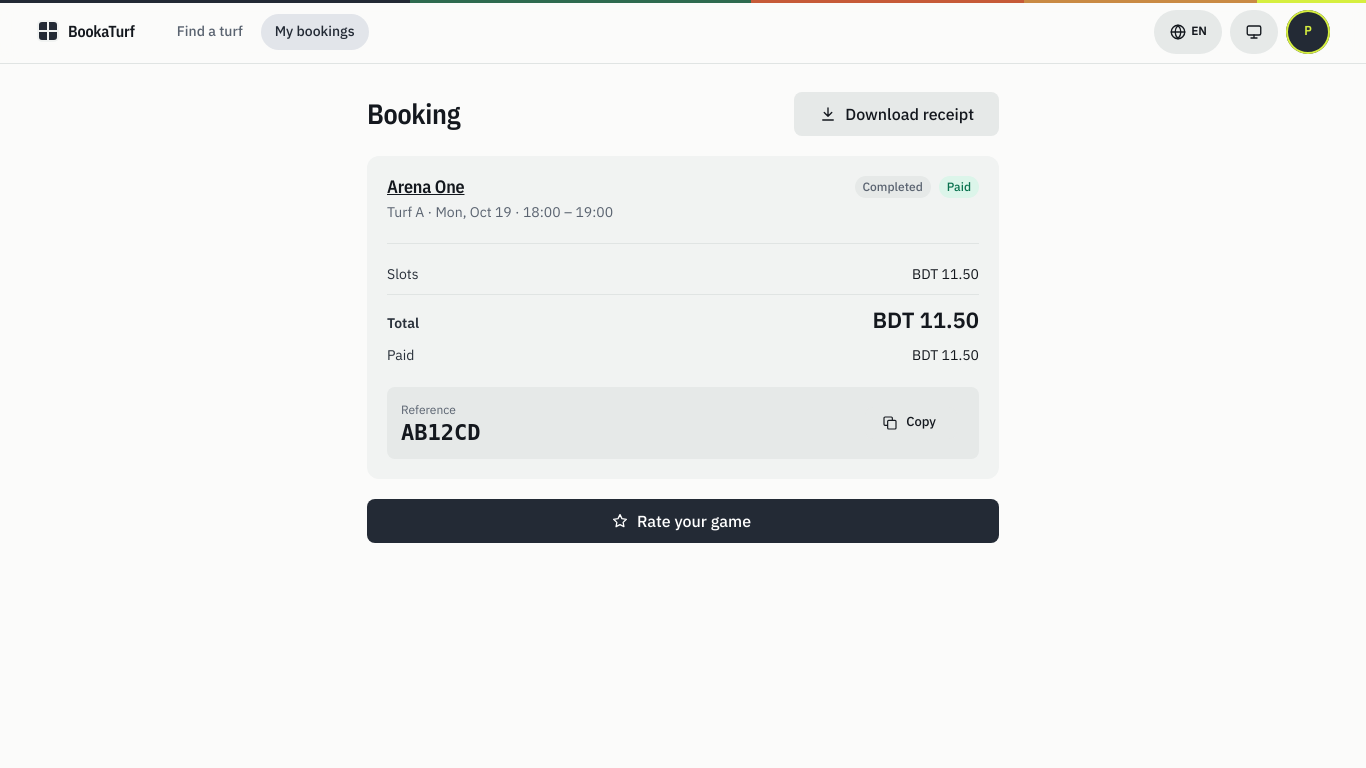
Test: player review › rate your game posts stars and comment
Click the button "Rate your game" at (683, 521), box [367, 499, 999, 543]
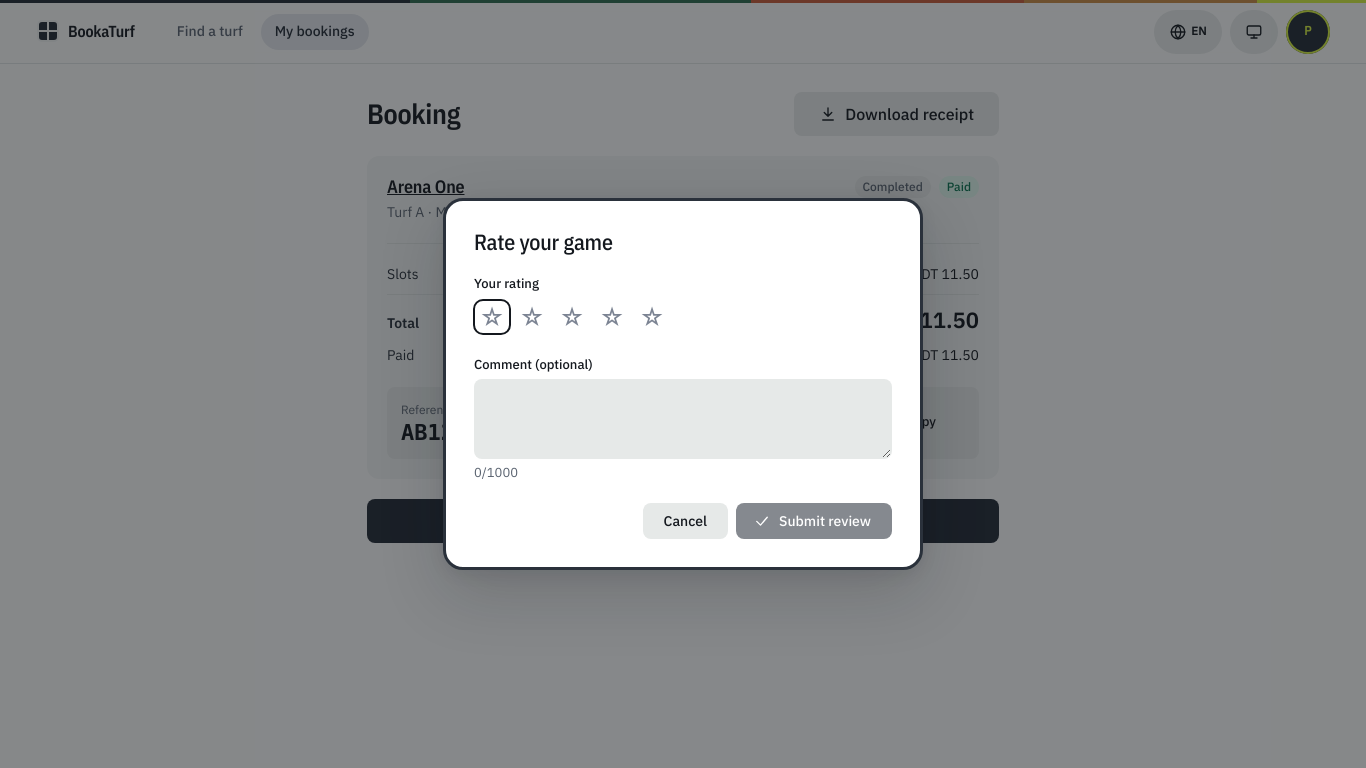
Expected: the button "Submit review" is disabled, [736, 503, 892, 539]
Click the radio button named "4 stars" at (612, 317), box [594, 299, 630, 335]
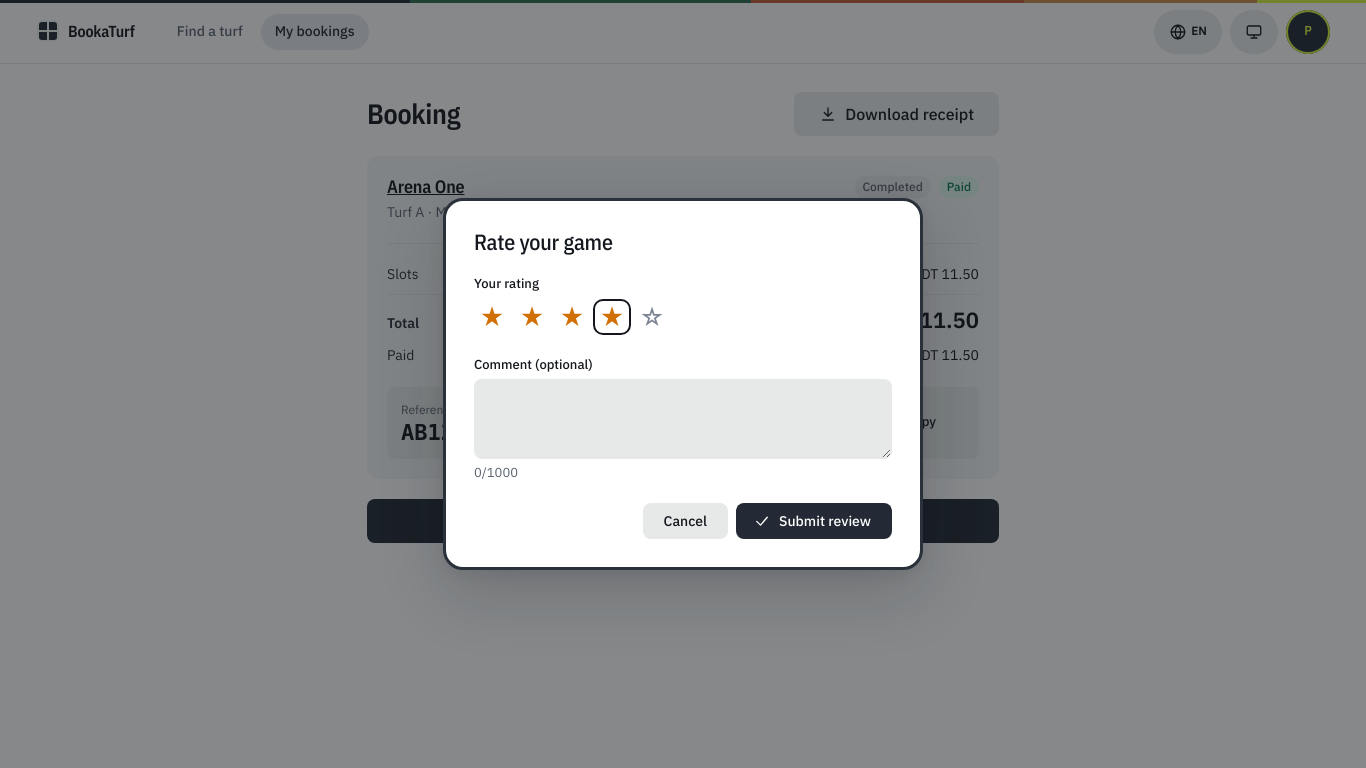
Type "Nice" into the text box labelled "Comment (optional)" at (683, 419), box [474, 379, 892, 459]
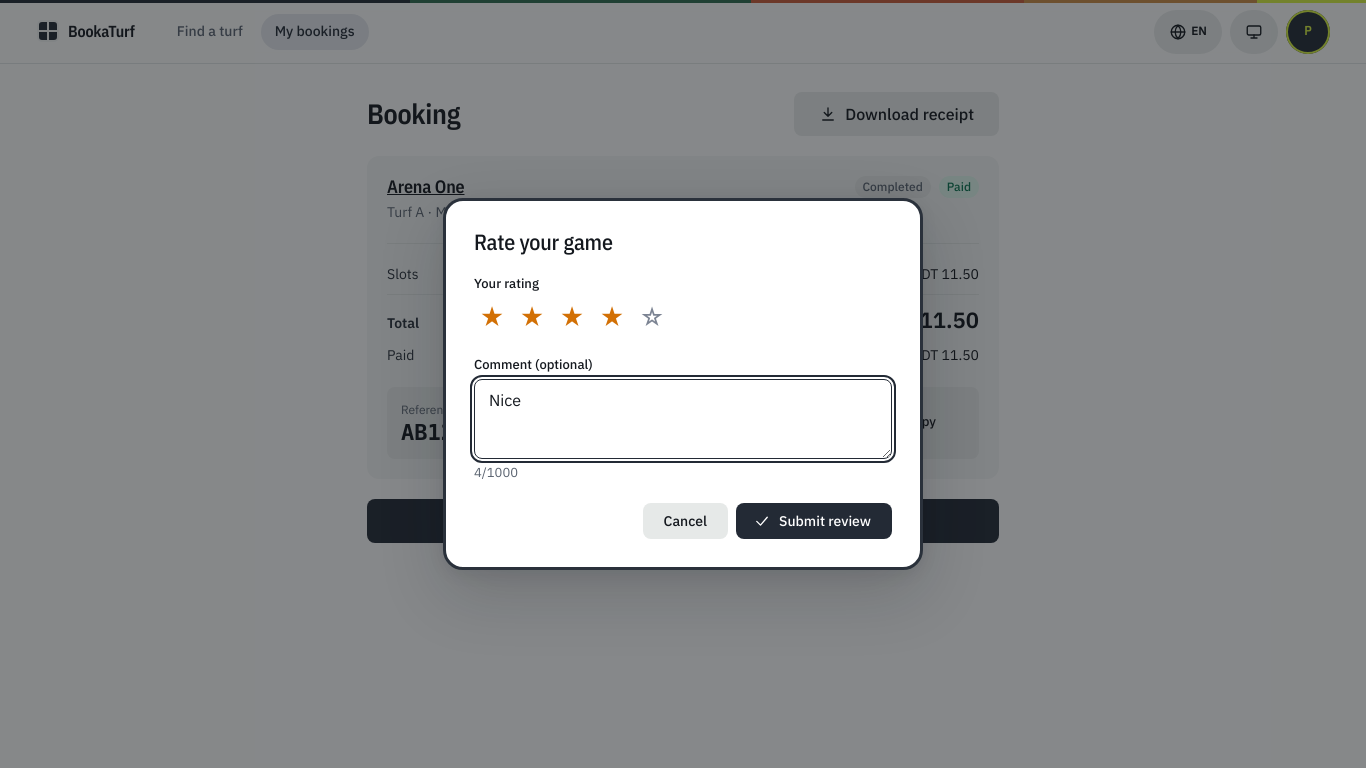
Click the button "Submit review" at (814, 521), box [736, 503, 892, 539]
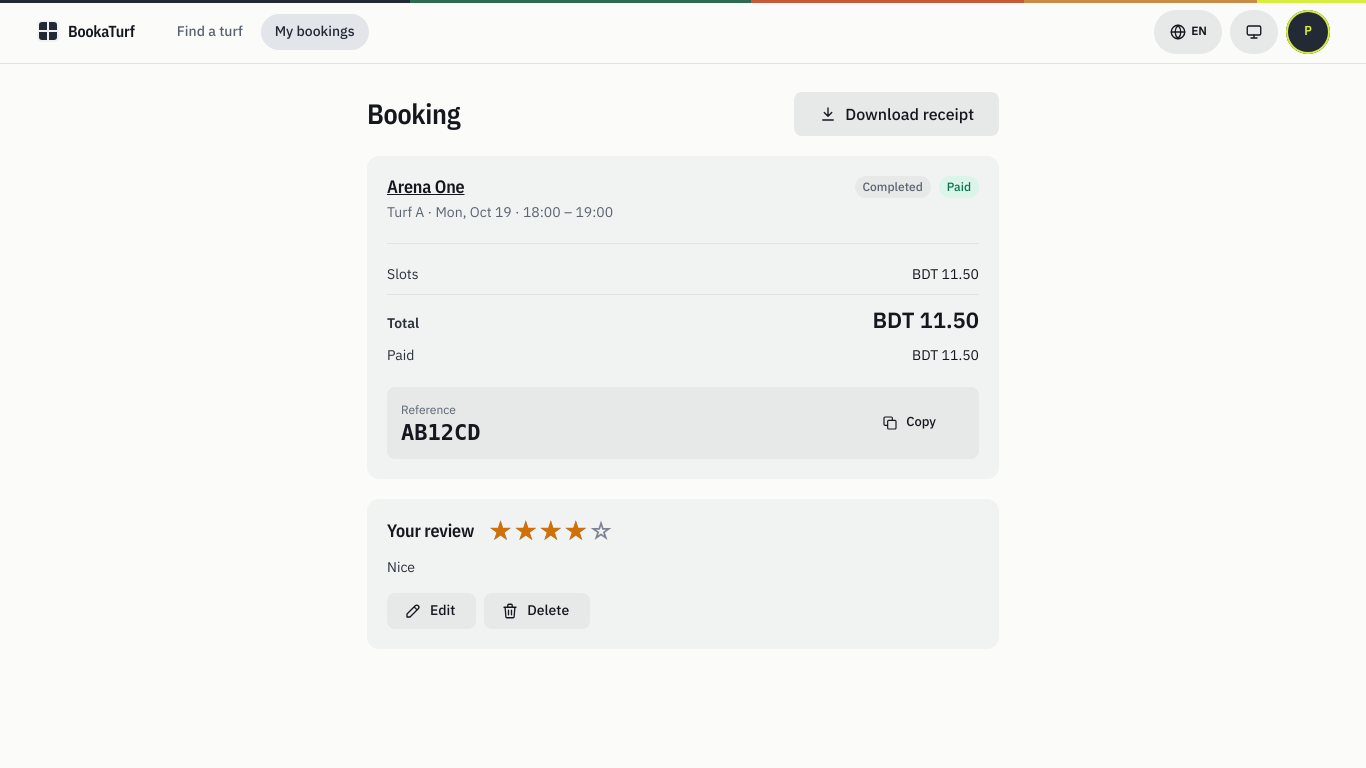
Expected: the text "Nice" is shown, [387, 558, 415, 576]
Expected: the button "Rate your game" is gone
